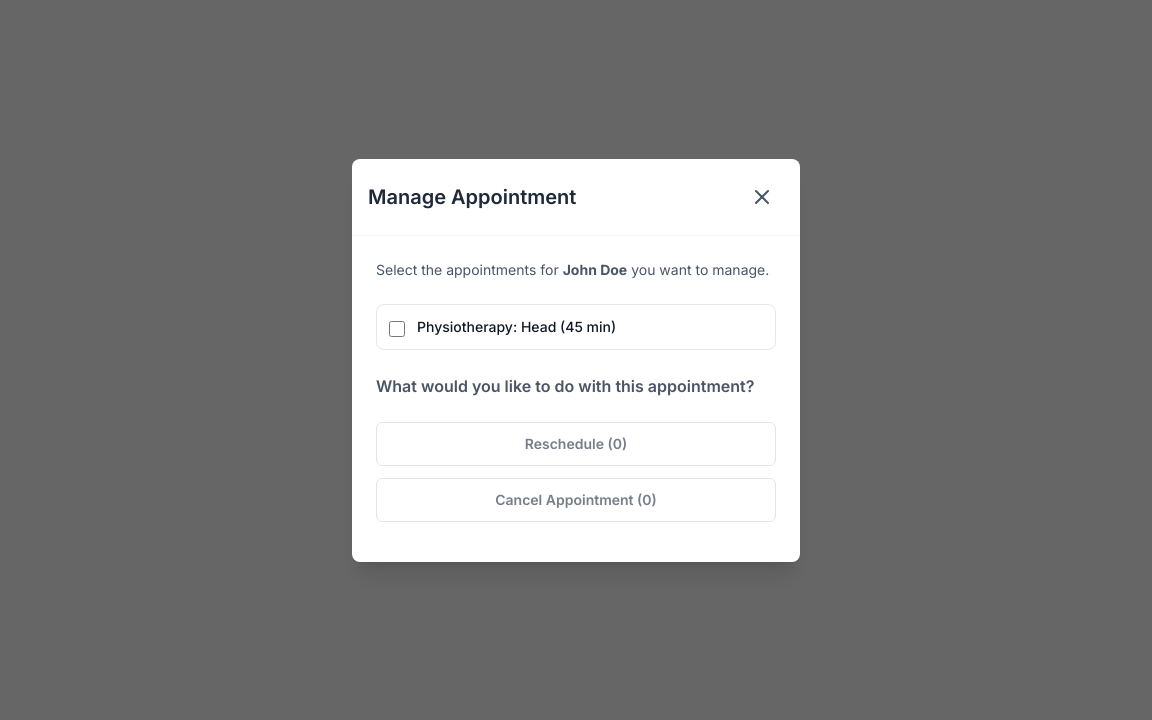
Test case: ManageAppointmentsModal › should transition to postpone view when postpone button is clicked
Click the checkbox at [397, 328], box [389,320,405,336]
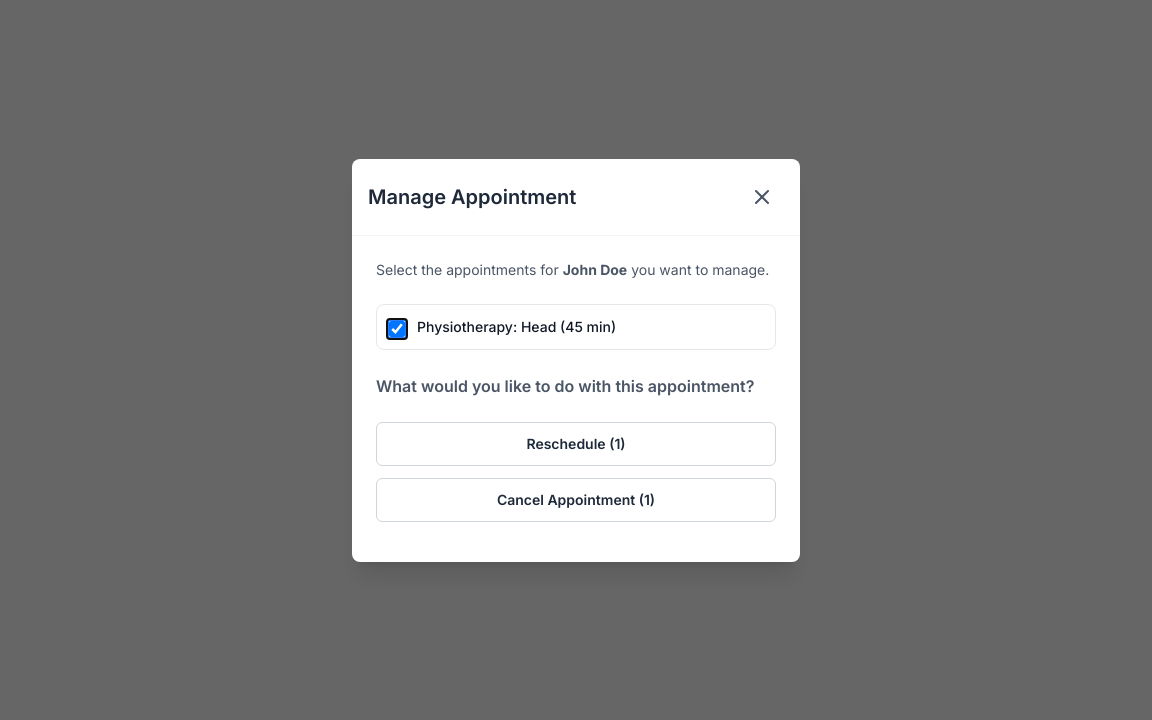
Click the button "Reschedule (1)" at [576, 444], box [376,422,776,466]
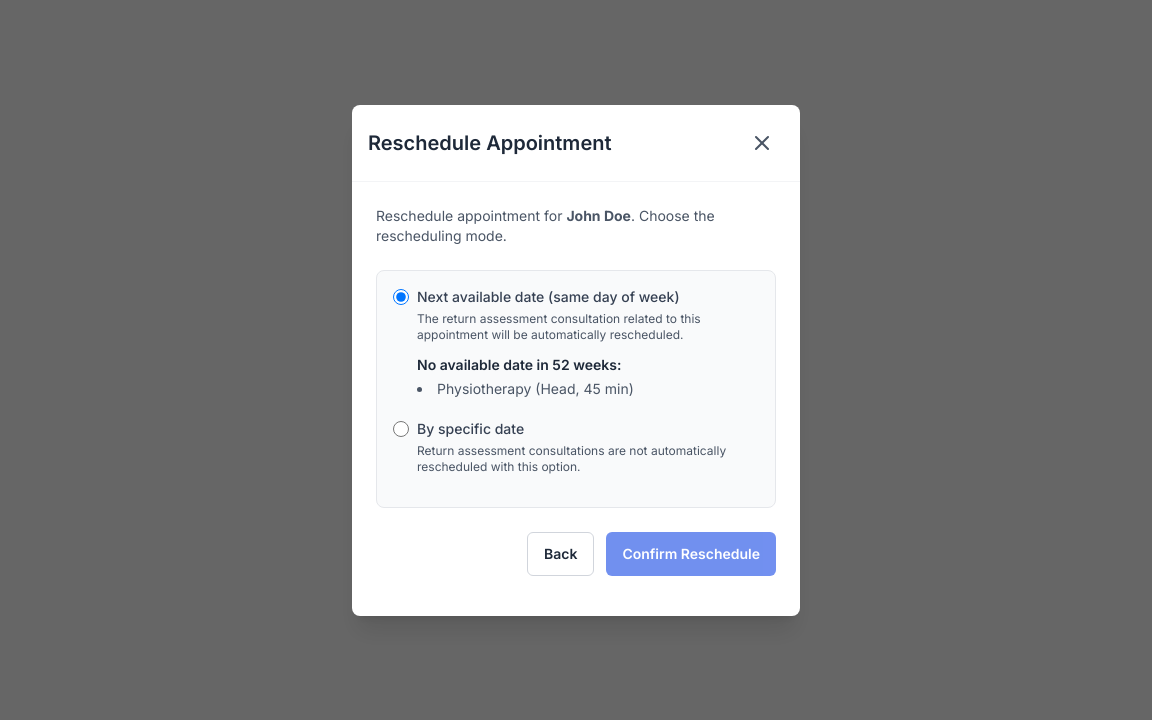
Expected: the text "Reschedule appointment for" is shown, [376,206,566,224]
Expected: the text "Next available date (same day of week)" is shown, [417,286,680,306]
Expected: the text "By specific date" is shown, [417,418,524,438]
